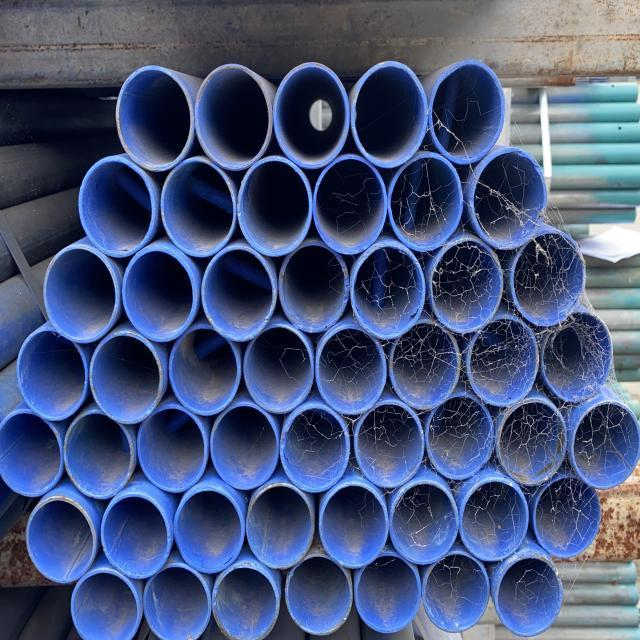pipe: (494, 380, 582, 500), (202, 397, 292, 507), (60, 392, 148, 504), (111, 65, 201, 174), (270, 397, 357, 509), (190, 60, 274, 174), (454, 468, 535, 584), (128, 397, 214, 506), (421, 390, 506, 500), (350, 394, 435, 504), (426, 59, 515, 164), (314, 470, 398, 580), (468, 153, 559, 254), (79, 152, 165, 258), (270, 62, 354, 170), (350, 58, 432, 168), (539, 302, 628, 402), (162, 482, 250, 582), (28, 482, 110, 588), (161, 152, 242, 258), (507, 228, 591, 328), (41, 243, 121, 347), (348, 540, 431, 640), (1, 394, 74, 507), (424, 231, 506, 331), (530, 468, 608, 572), (121, 243, 201, 344), (238, 480, 320, 578), (87, 328, 168, 427), (13, 319, 91, 421), (348, 238, 428, 337), (237, 154, 311, 260), (418, 545, 501, 639), (203, 244, 281, 344), (101, 484, 176, 588), (461, 316, 546, 407), (386, 477, 463, 577), (570, 388, 638, 500), (386, 152, 463, 249), (492, 543, 568, 640), (166, 324, 245, 416), (315, 154, 389, 251), (282, 547, 359, 639), (386, 320, 463, 411), (240, 321, 314, 414), (277, 239, 351, 331), (315, 324, 389, 414), (210, 551, 284, 640), (139, 560, 215, 640), (64, 568, 142, 640)
